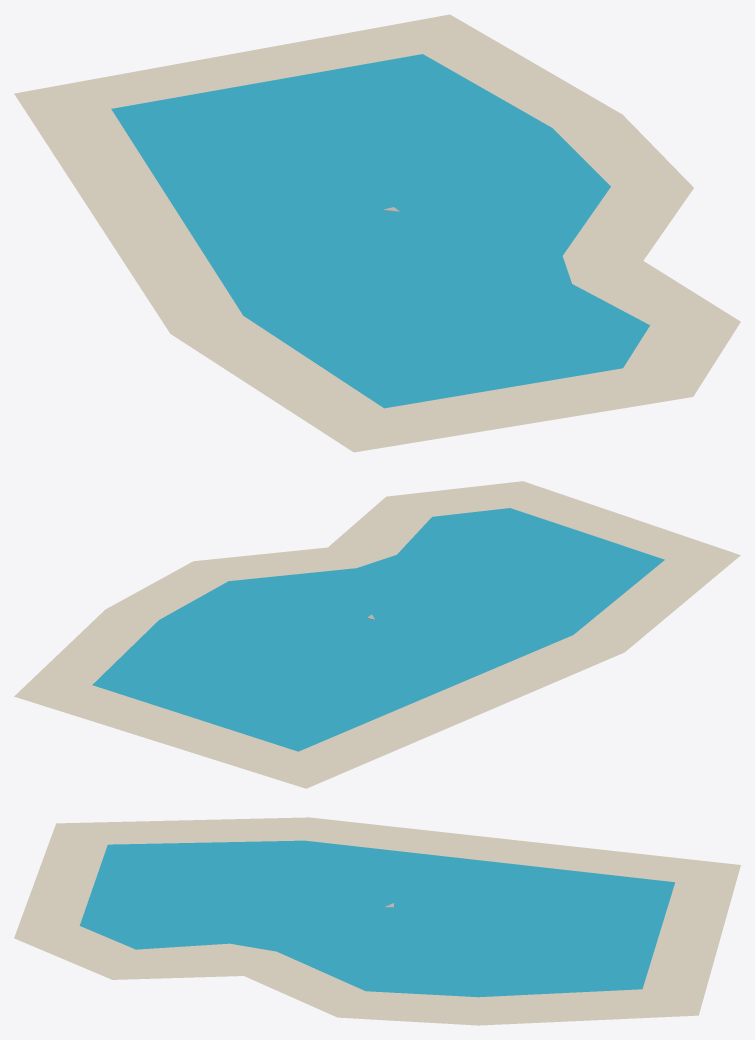
File: pbpool_m23_m10.glb
3 renders of one model, top to bottom at view 1: azimuth 30°, elevation 25°; view 2: azimuth 150°, elevation 25°; view 3: azimuth 270°, elevation 25°, orthographic. The views are drawn at different scales.
Visible parts, largest first — view 1: pbpool_m23_m10_lod0; view 2: pbpool_m23_m10_lod0; view 3: pbpool_m23_m10_lod0.
Part boxes in pixels (left/top/right/bottom): pbpool_m23_m10_lod0: left=14, top=14, right=740, bottom=452; pbpool_m23_m10_lod0: left=14, top=481, right=740, bottom=788; pbpool_m23_m10_lod0: left=14, top=817, right=740, bottom=1025.
Size of what is drawn, in the model's own units: 10.5 by 0.3179 by 15.5.
